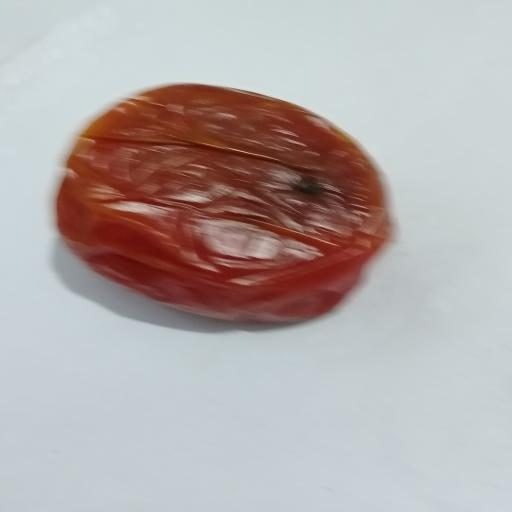spoiled: (56, 84, 390, 322)
